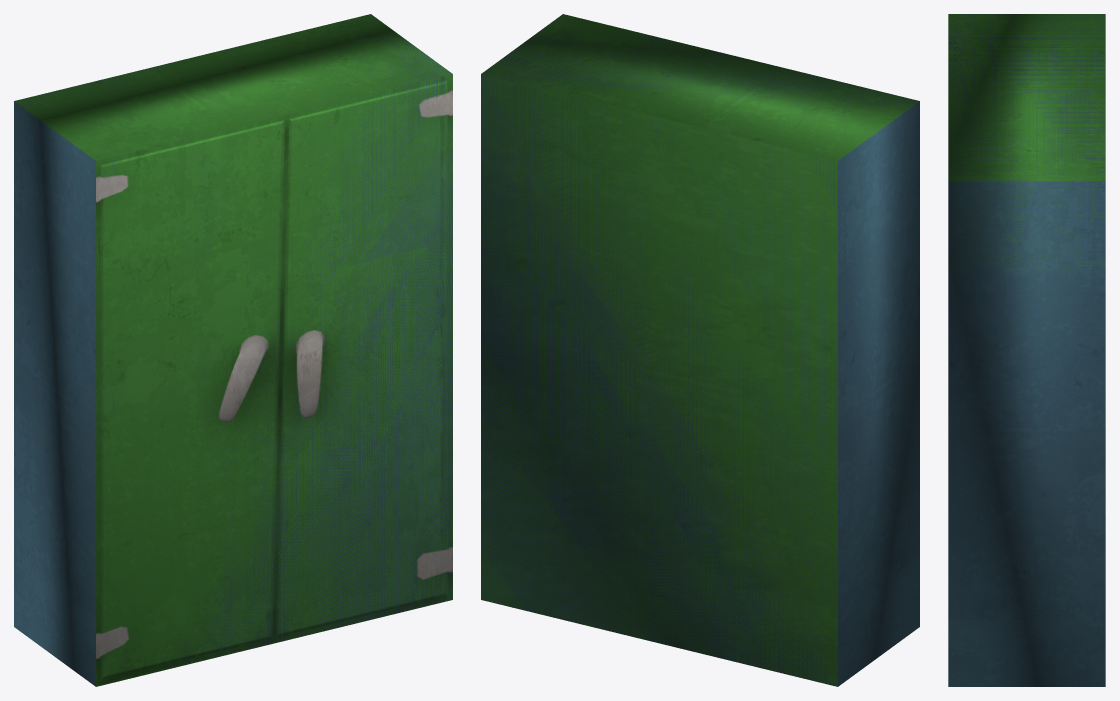
The model's file is lockers_01.fbx.
The picture shows the model from 3 angles, left to right: view 1: azimuth 30°, elevation 25°; view 2: azimuth 150°, elevation 25°; view 3: azimuth 270°, elevation 25°; orthographic projection. The views are drawn at different scales.
Parts seen in each view (by area): view 1: locker_big_green, locker_big_blue; view 2: locker_big_green, locker_big_blue; view 3: locker_big_blue, locker_big_green.
Boxes of the visible parts, <box> form: locker_big_green: <box>14,14,452,686</box>; locker_big_blue: <box>14,18,452,686</box>; locker_big_green: <box>481,14,919,686</box>; locker_big_blue: <box>481,15,919,686</box>; locker_big_blue: <box>948,14,1105,686</box>; locker_big_green: <box>948,14,1105,384</box>.
Size of the model in its own units: 256 by 360 by 102.
